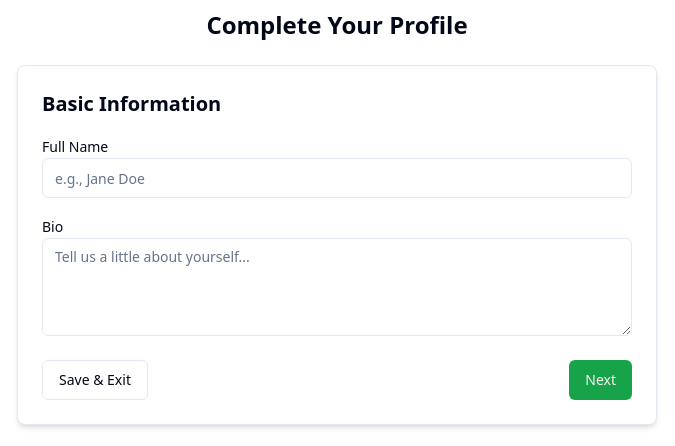
Scenario: Profile Setup Wizard (MPP Task 2.2.1) › should navigate from Basic Info step to Location step when clicking Next
Type "John Doe" into the field labelled "Full Name". click: (337, 178)
box: [42, 158, 632, 198]
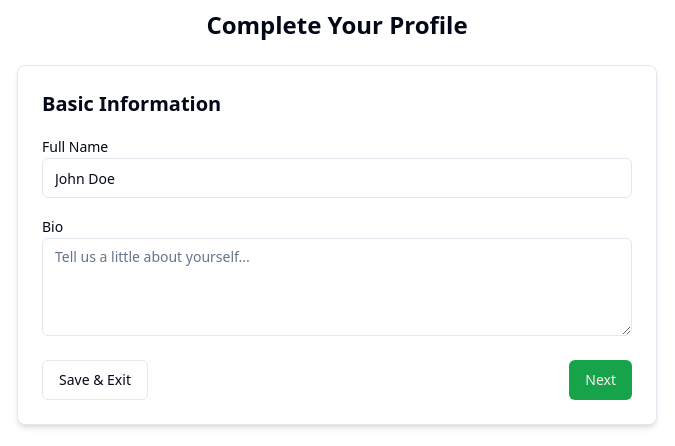
Type "Test bio information" into the text box labelled "Bio". click: (337, 287)
box: [42, 238, 632, 336]
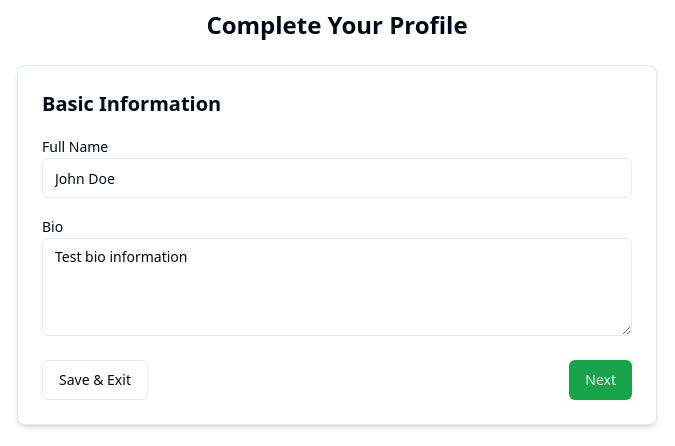
Click the button "Next". click: (601, 380)
box: [569, 360, 632, 400]
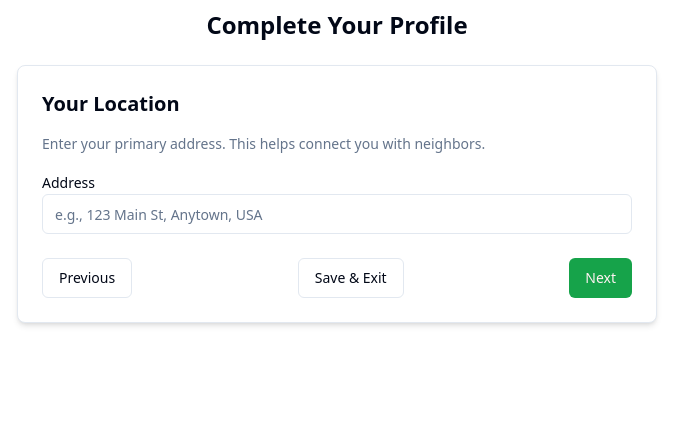
Check: the heading "Your Location" is shown, box [42, 90, 180, 117]
